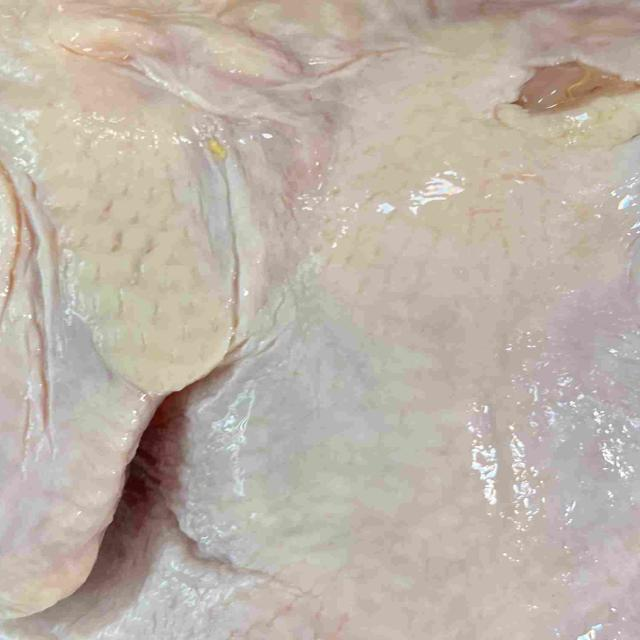back: (93, 75, 640, 640)
wing: (0, 37, 246, 620)
